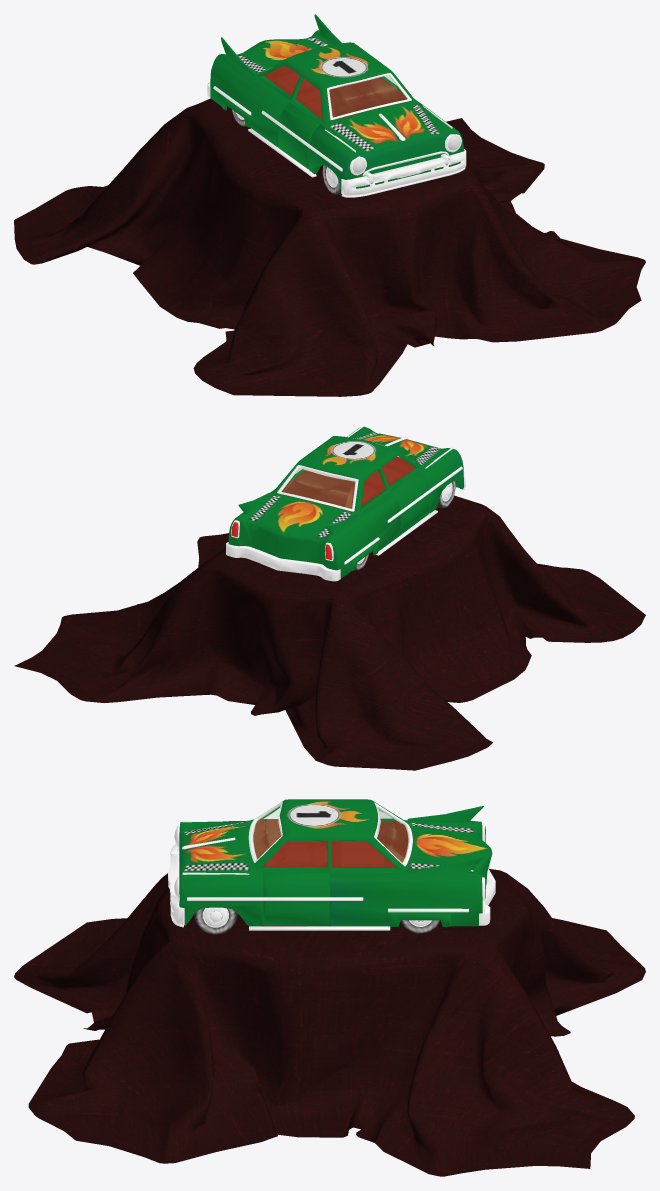
The model's file is toyCar.glb.
The picture shows the model from 3 angles, top to bottom: view 1: azimuth 30°, elevation 25°; view 2: azimuth 150°, elevation 25°; view 3: azimuth 270°, elevation 25°; orthographic projection. The views are drawn at different scales.
Parts seen in each view (by area): view 1: Fabric, ToyCar, Glass; view 2: Fabric, ToyCar, Glass; view 3: Fabric, ToyCar, Glass.
Boxes of the visible parts, box(x1,y1,x2,y2) form: Fabric: box(14, 98, 645, 396); ToyCar: box(207, 14, 466, 197); Glass: box(329, 75, 406, 116); Fabric: box(14, 495, 645, 770); ToyCar: box(226, 425, 465, 581); Glass: box(282, 468, 354, 508); Fabric: box(14, 869, 645, 1176); ToyCar: box(168, 799, 495, 934); Glass: box(252, 806, 409, 862).
Size of the model in its own units: 0.0734 by 0.0288 by 0.074.
3 materials, 2 textured.
